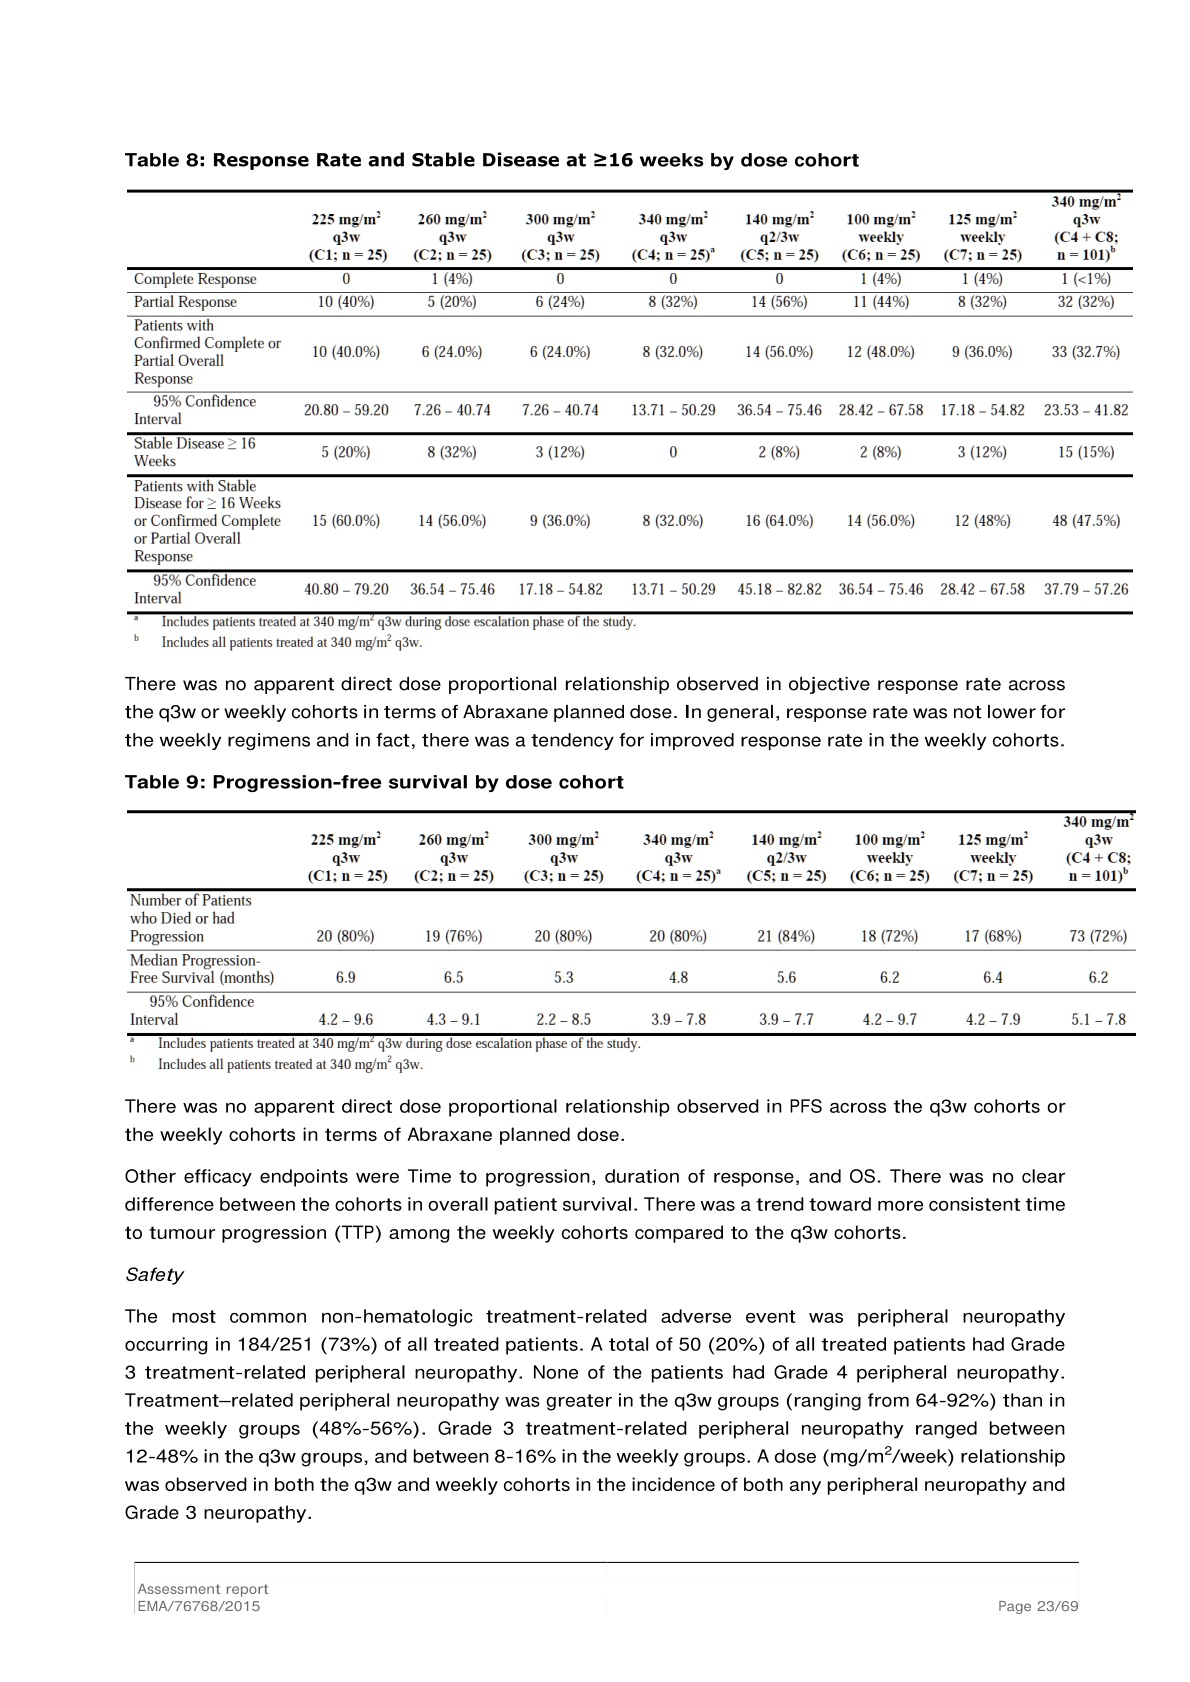partial_lined: (127, 188, 1135, 616), (127, 809, 1136, 1037)
